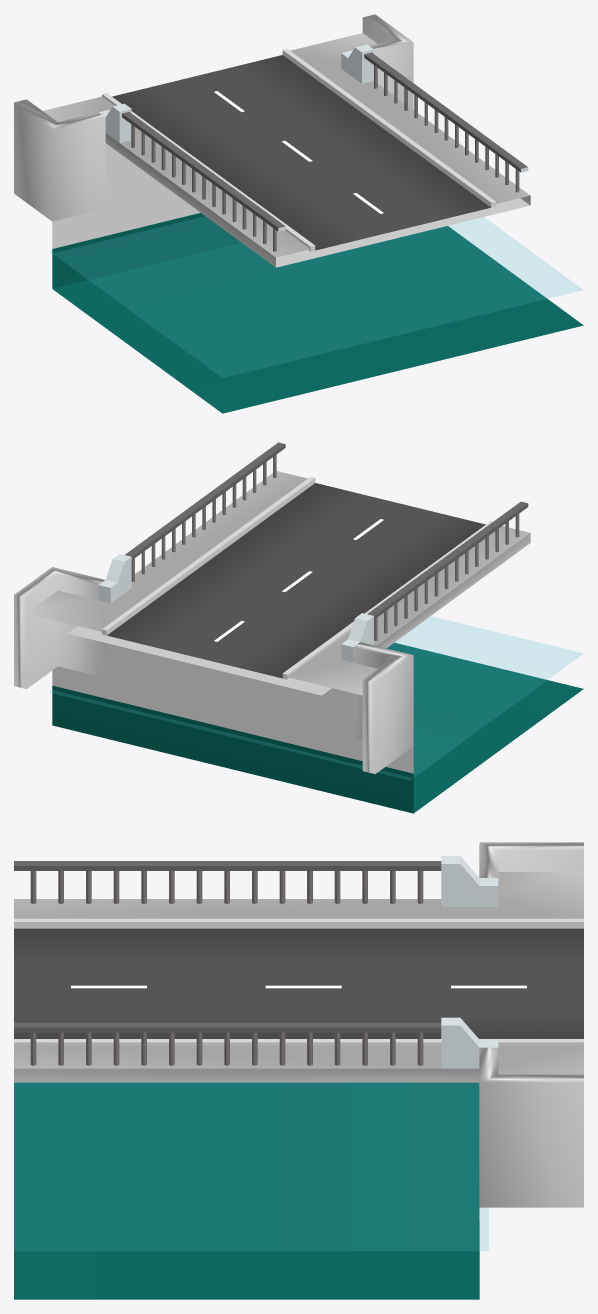
Rendered from road_030.glb.
The picture shows the model from 3 angles, top to bottom: view 1: azimuth 30°, elevation 25°; view 2: azimuth 150°, elevation 25°; view 3: azimuth 270°, elevation 25°; orthographic projection. The views are drawn at different scales.
Parts seen in each view (by area): view 1: road_030; view 2: road_030; view 3: road_030.
Part boxes in pixels (box(x1,y1,x2,y2)): road_030: box(14, 14, 583, 413); road_030: box(14, 442, 583, 813); road_030: box(14, 842, 583, 1299).
Size of the model in its own units: 15 by 6.92 by 15.
Materials: 2 (2 with a texture image).
